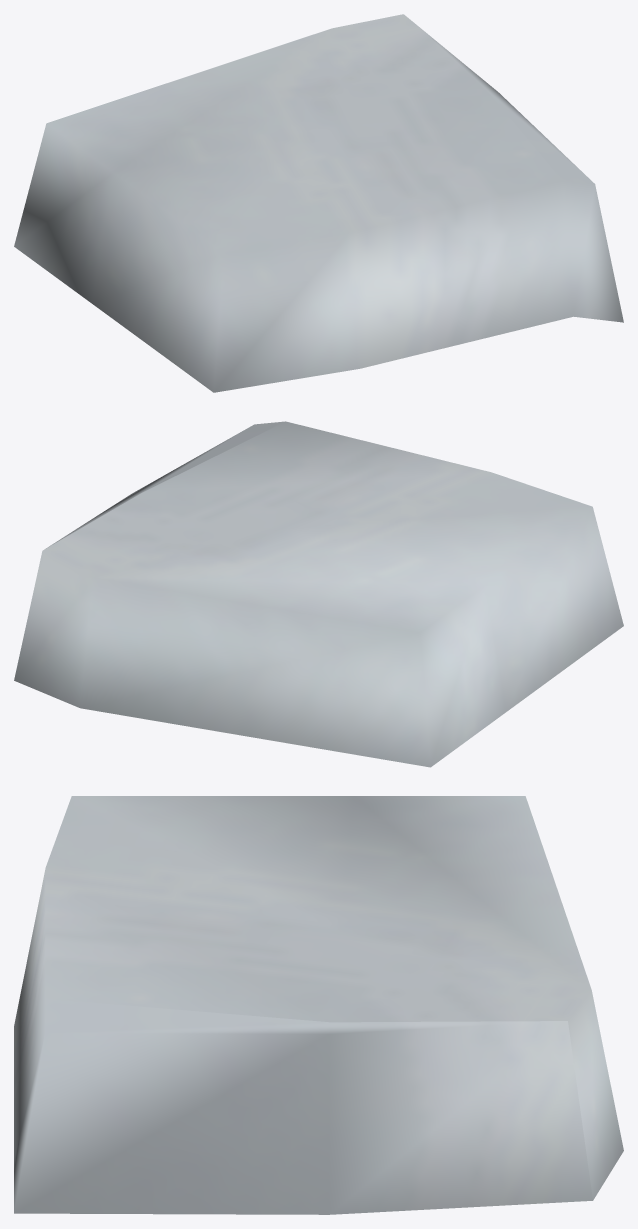
File: Temple_Stone_6_Snow.fbx
The picture shows the model from 3 angles, top to bottom: view 1: azimuth 30°, elevation 25°; view 2: azimuth 150°, elevation 25°; view 3: azimuth 270°, elevation 25°; orthographic projection. The views are drawn at different scales.
Visible parts, largest first — view 1: Temple_Stone_6_Snow; view 2: Temple_Stone_6_Snow; view 3: Temple_Stone_6_Snow.
Boxes of the visible parts, left/top/right/bottom form: Temple_Stone_6_Snow: left=14, top=14, right=623, bottom=392; Temple_Stone_6_Snow: left=14, top=421, right=623, bottom=767; Temple_Stone_6_Snow: left=14, top=796, right=623, bottom=1214.
Bounding box in the file's own units: 50 × 17.26 × 50.
